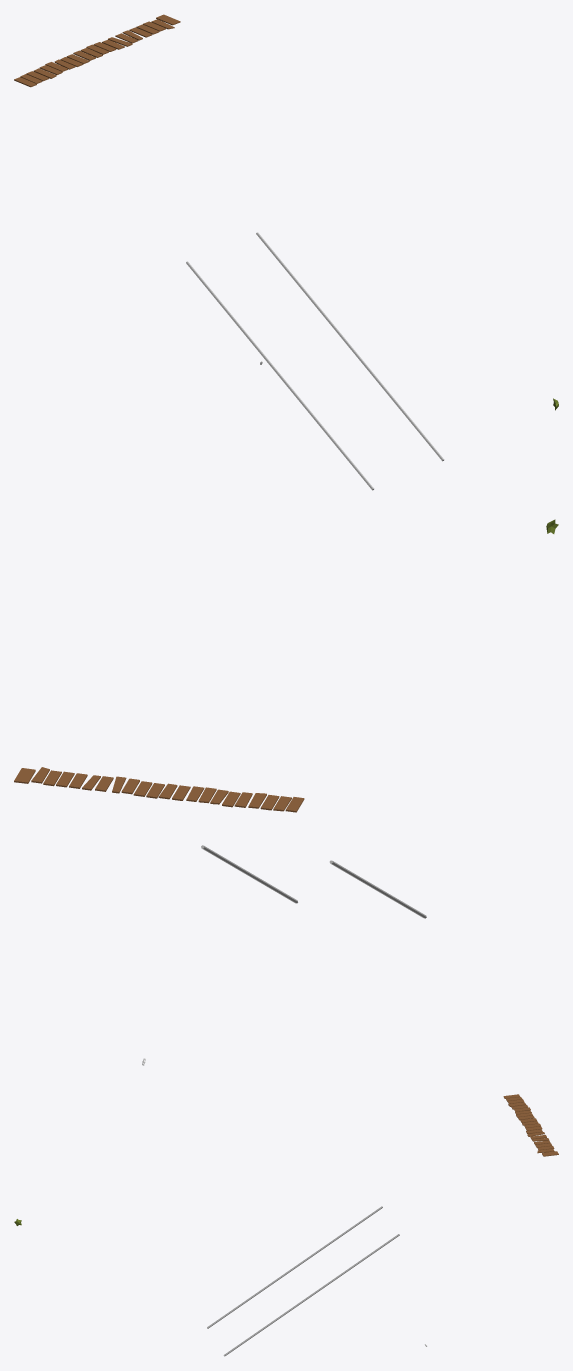
The picture shows the model from 3 angles, top to bottom: view 1: azimuth 30°, elevation 25°; view 2: azimuth 150°, elevation 25°; view 3: azimuth 270°, elevation 25°; orthographic projection. The views are drawn at different scales.
Visible parts, largest first — view 1: Plane060_brown_0, Shape002_grey_0; view 2: Plane060_brown_0, Shape002_grey_0; view 3: Plane060_brown_0, Shape002_grey_0.
Part boxes in pixels (x1,y1,x2,y2): Plane060_brown_0: (14, 14, 180, 87); Shape002_grey_0: (186, 232, 444, 490); Plane060_brown_0: (14, 767, 304, 812); Shape002_grey_0: (201, 845, 426, 918); Plane060_brown_0: (503, 1094, 558, 1156); Shape002_grey_0: (207, 1206, 399, 1356).
Bounding box in the file's own units: 1843 × 2287 × 5869.
